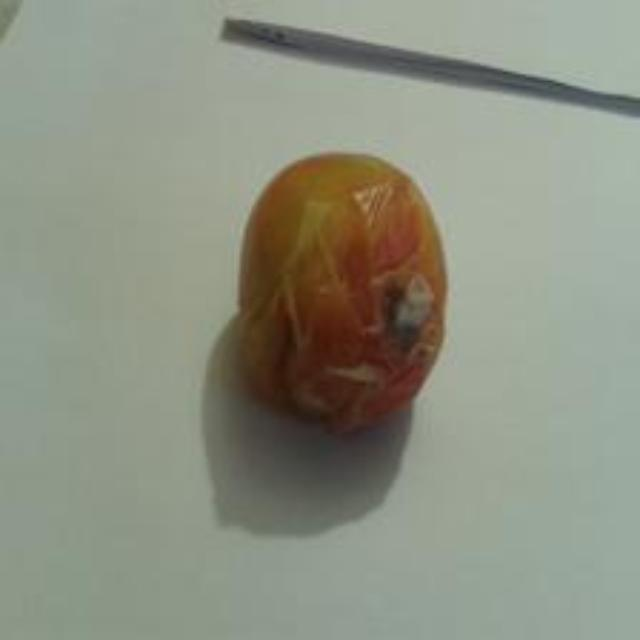defect: (225, 140, 464, 442)
